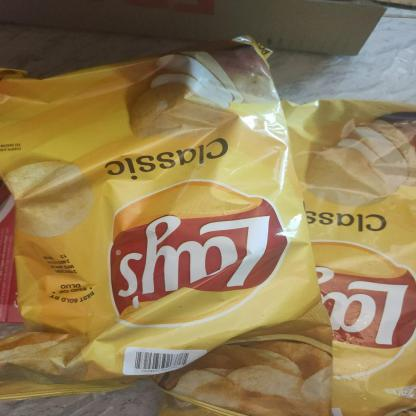potatochip: (0, 42, 328, 389), (121, 90, 416, 416)
